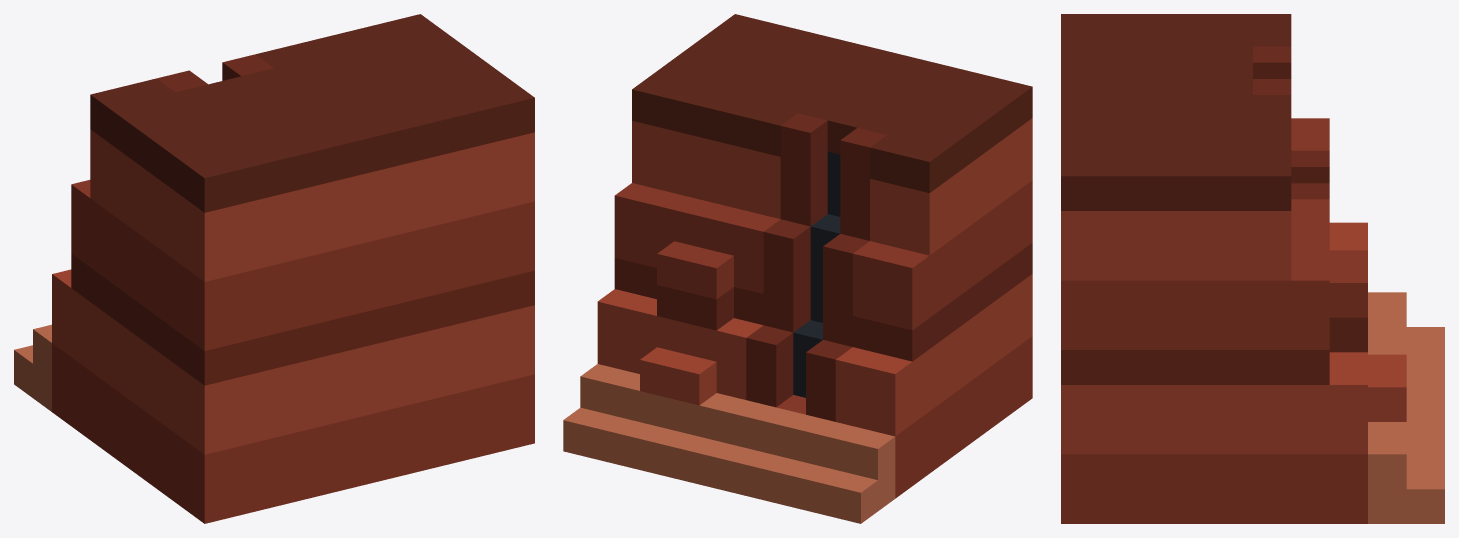
File: plateau_rim_straight.glb
The picture shows the model from 3 angles, left to right: view 1: azimuth 30°, elevation 25°; view 2: azimuth 150°, elevation 25°; view 3: azimuth 270°, elevation 25°; orthographic projection. The views are drawn at different scales.
Visible parts, largest first — view 1: rock; view 2: rock; view 3: rock.
Part boxes in pixels (x1,y1,x2,y2): rock: (14, 14, 534, 523); rock: (563, 14, 1032, 523); rock: (1061, 14, 1444, 523).
Bounding box in the file's own units: 10 × 10 × 10.
